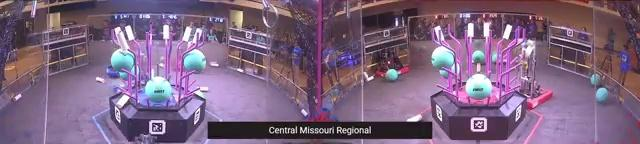reef: (429, 22, 528, 140), (111, 24, 206, 144)
robot: (516, 36, 553, 110), (374, 46, 409, 80), (106, 62, 121, 78)
